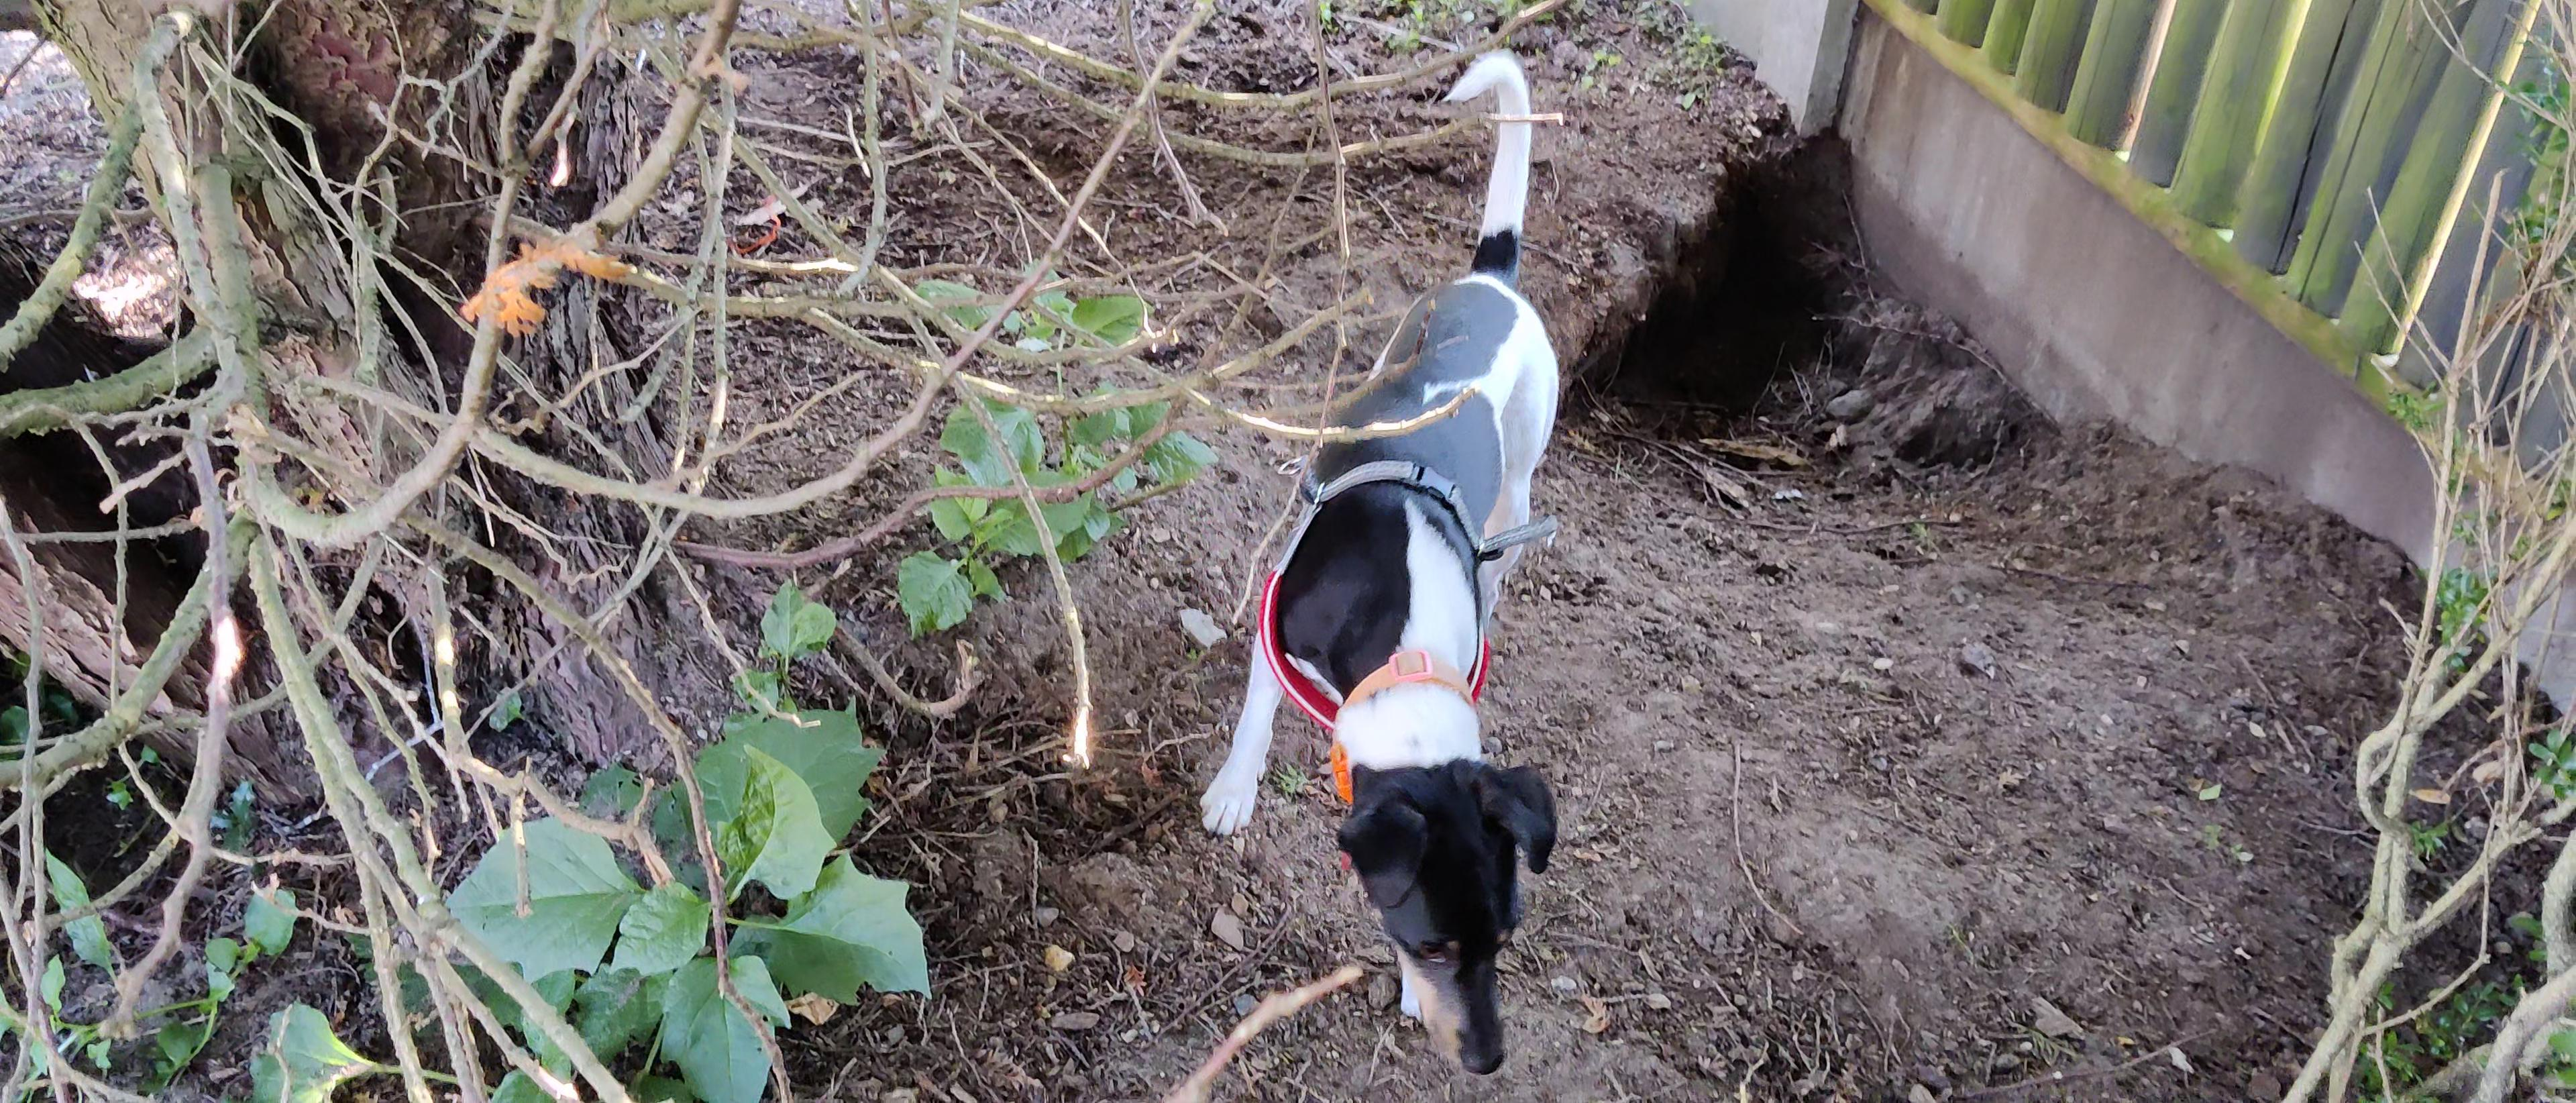Dog: (1168, 41, 1598, 1082)
